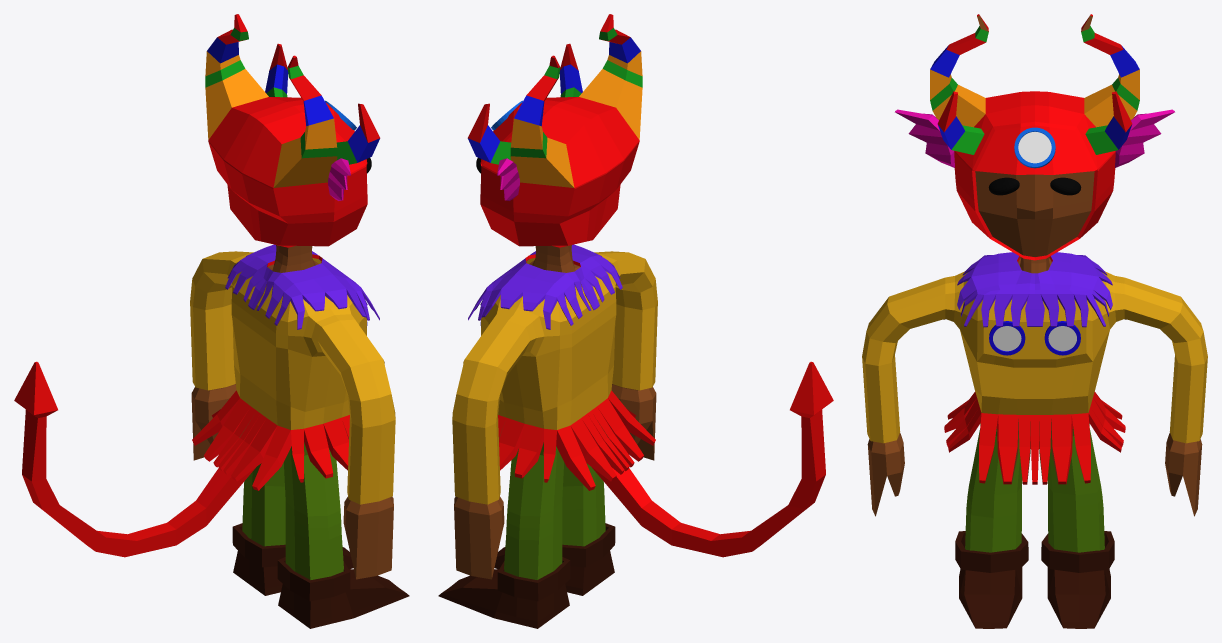
Rendered from diablito.fbx.
The picture shows the model from 3 angles, left to right: view 1: azimuth 30°, elevation 25°; view 2: azimuth 150°, elevation 25°; view 3: azimuth 270°, elevation 25°; orthographic projection.
Parts seen in each view (by area): view 1: Cube.003; view 2: Cube.003; view 3: Cube.003.
Part boxes in pixels (x1,y1,x2,y2): Cube.003: (14, 14, 409, 628); Cube.003: (438, 14, 833, 628); Cube.003: (862, 14, 1207, 628).
Bounding box in the file's own units: 587 × 894 × 501.
